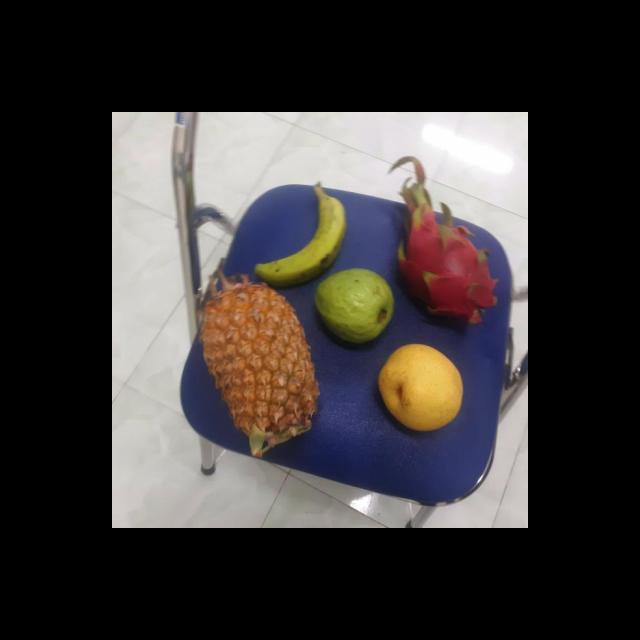guava: (311, 266, 394, 348)
pear: (372, 342, 467, 430)
pineapple: (190, 275, 315, 453)
pitaya: (394, 205, 494, 328)
